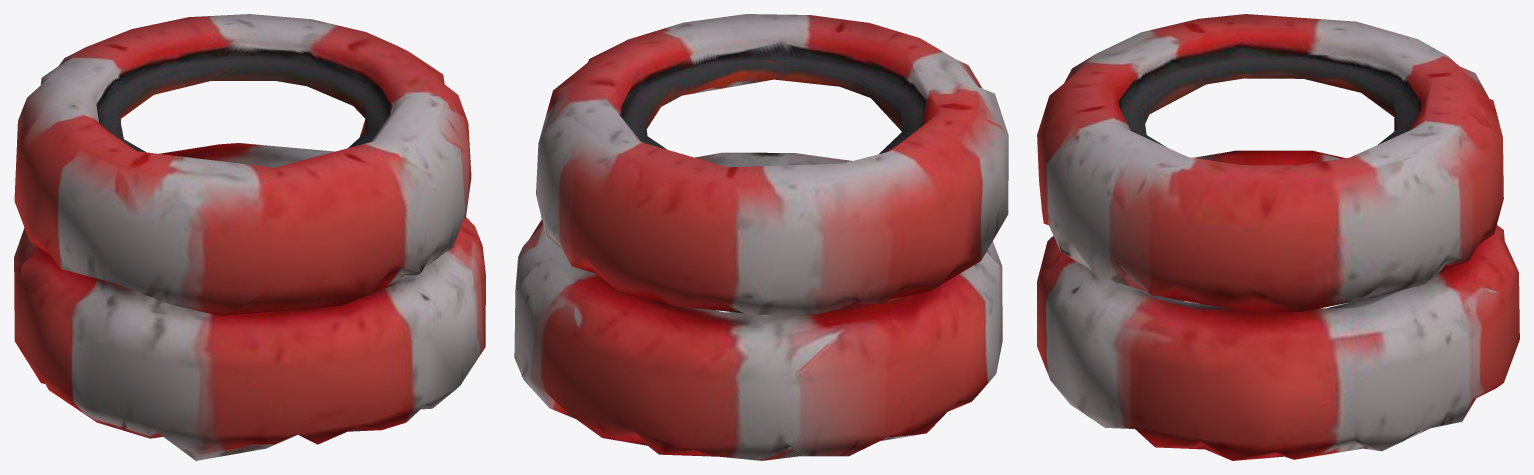
Rendered from tyre_stack.glb.
3 views of the same model, side by side, from view 1: azimuth 30°, elevation 25°; view 2: azimuth 150°, elevation 25°; view 3: azimuth 270°, elevation 25° (orthographic). The views are drawn at different scales.
Parts seen in each view (by area): view 1: tripo_node_aa5b7805-2b30-4f19-a8b7-df4c2ec0accd; view 2: tripo_node_aa5b7805-2b30-4f19-a8b7-df4c2ec0accd; view 3: tripo_node_aa5b7805-2b30-4f19-a8b7-df4c2ec0accd.
Part boxes in pixels (x1=…): tripo_node_aa5b7805-2b30-4f19-a8b7-df4c2ec0accd: x1=14, y1=14, x2=485, y2=460; tripo_node_aa5b7805-2b30-4f19-a8b7-df4c2ec0accd: x1=514, y1=14, x2=1008, y2=460; tripo_node_aa5b7805-2b30-4f19-a8b7-df4c2ec0accd: x1=1037, y1=14, x2=1519, y2=460.
Bounding box in the file's own units: 0.998 × 0.6582 × 0.998.
Materials: 1 (1 with a texture image).
